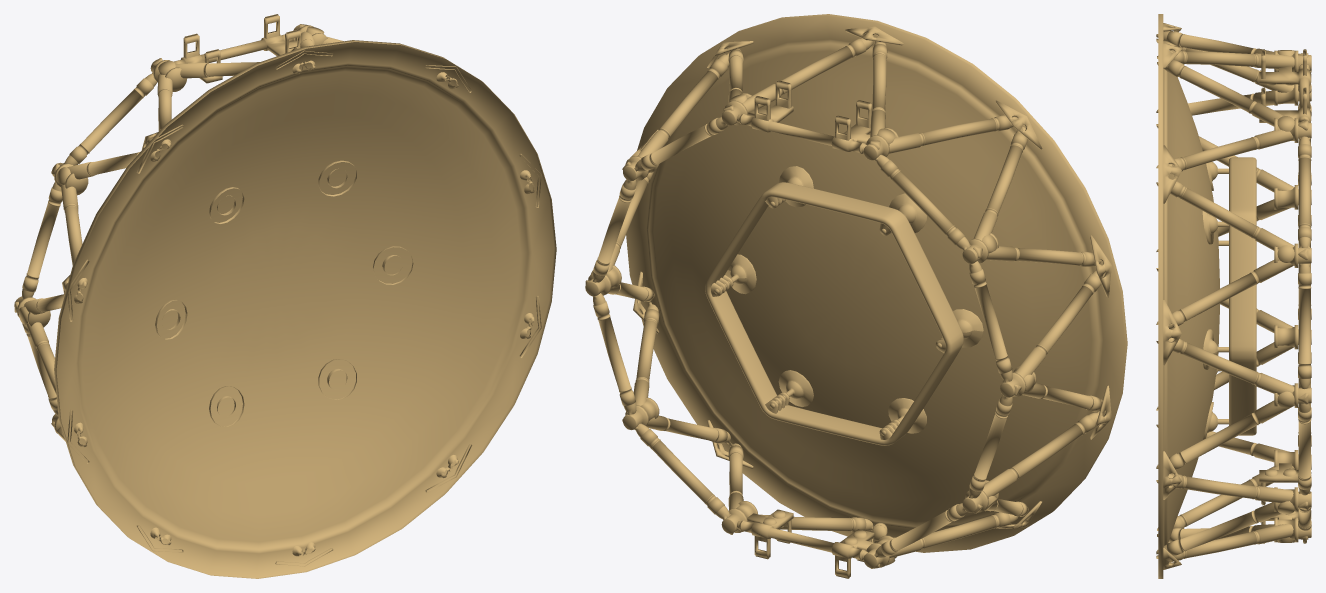
Rendered from Transition Compartment.fbx.
3 views of the same model, side by side, from view 1: azimuth 30°, elevation 25°; view 2: azimuth 150°, elevation 25°; view 3: azimuth 270°, elevation 25° (orthographic). The views are drawn at different scales.
Parts seen in each view (by area): view 1: Transition Compartment; view 2: Transition Compartment; view 3: Transition Compartment.
Boxes of the visible parts, x1,y1,x2,y2 form: Transition Compartment: (14,14,556,578); Transition Compartment: (585,14,1127,578); Transition Compartment: (1156,14,1311,578).
Bounding box in the file's own units: 249 × 249 × 68.47.
